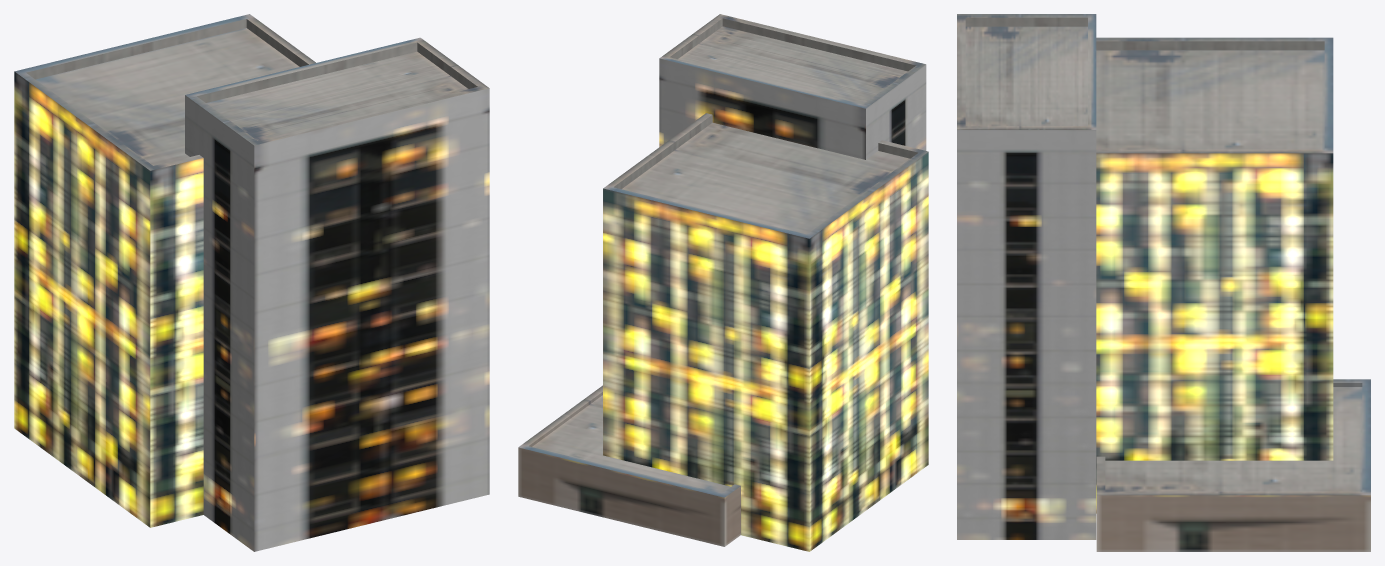
The model's file is Building_Yellow_Bg.fbx.
The picture shows the model from 3 angles, left to right: view 1: azimuth 30°, elevation 25°; view 2: azimuth 150°, elevation 25°; view 3: azimuth 270°, elevation 25°; orthographic projection. The views are drawn at different scales.
Parts seen in each view (by area): view 1: Building_Yellow_Bg; view 2: Building_Yellow_Bg; view 3: Building_Yellow_Bg.
Boxes of the visible parts, box(x1,y1,x2,y2) form: Building_Yellow_Bg: box(14, 14, 489, 551); Building_Yellow_Bg: box(518, 14, 928, 551); Building_Yellow_Bg: box(957, 14, 1370, 551).
Size of the model in its own units: 858 by 1063 by 972.
Materials: 1 (1 with a texture image).
